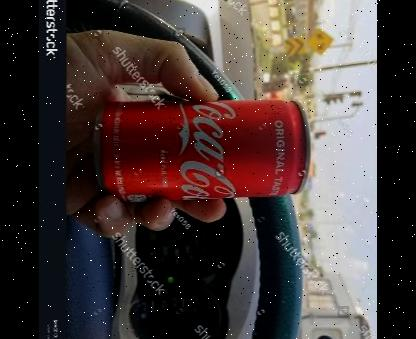Can: (92, 98, 312, 202)
